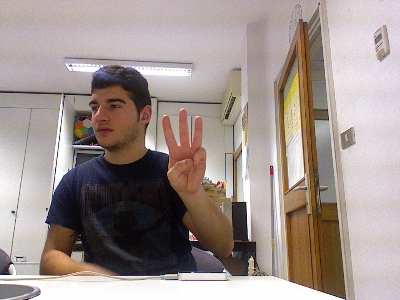三分: (159, 107, 207, 194)
